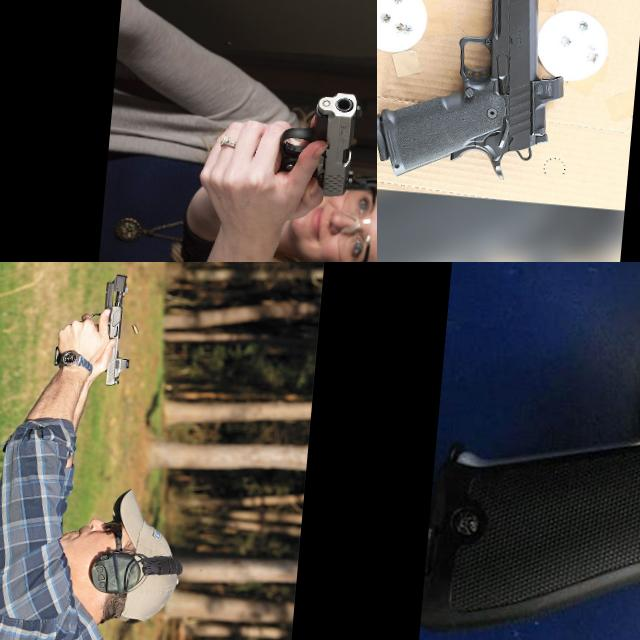handgun: (410, 262, 640, 640), (377, 0, 574, 192), (377, 0, 479, 146), (272, 86, 367, 200), (82, 270, 138, 390)
